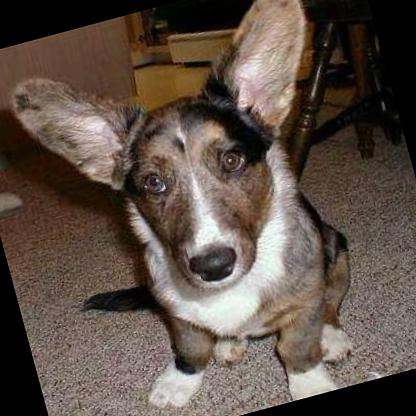Pembroke: (0, 0, 396, 416)
